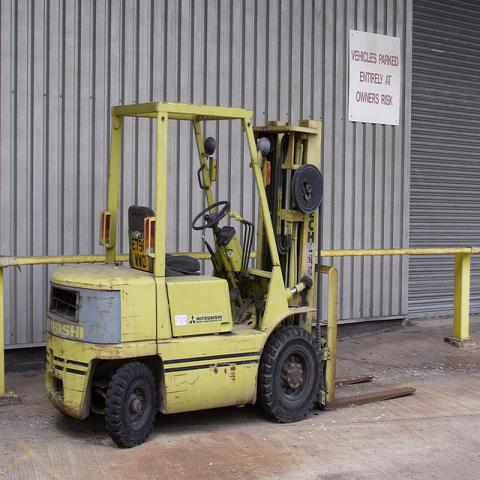truck: (41, 104, 323, 451)
